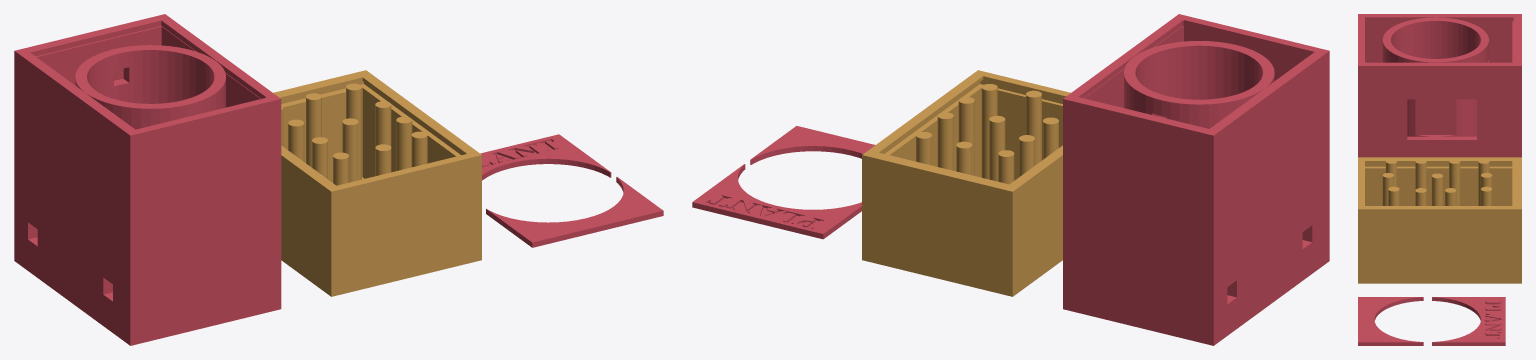
File: PLANT3D.glb
3 views of the same model, side by side, from view 1: azimuth 30°, elevation 25°; view 2: azimuth 150°, elevation 25°; view 3: azimuth 270°, elevation 25° (orthographic). The views are drawn at different scales.
Visible parts, largest first — view 1: Mesh_Mesh_head_geo.001_lambert2SG.001; view 2: Mesh_Mesh_head_geo.001_lambert2SG.001; view 3: Mesh_Mesh_head_geo.001_lambert2SG.001.
Boxes of the visible parts, box(x1,y1,x2,y2) form: Mesh_Mesh_head_geo.001_lambert2SG.001: box(14, 14, 663, 345); Mesh_Mesh_head_geo.001_lambert2SG.001: box(692, 14, 1329, 345); Mesh_Mesh_head_geo.001_lambert2SG.001: box(1358, 14, 1521, 345).
Bounding box in the file's own units: 0.0531 × 0.02 × 0.02.
